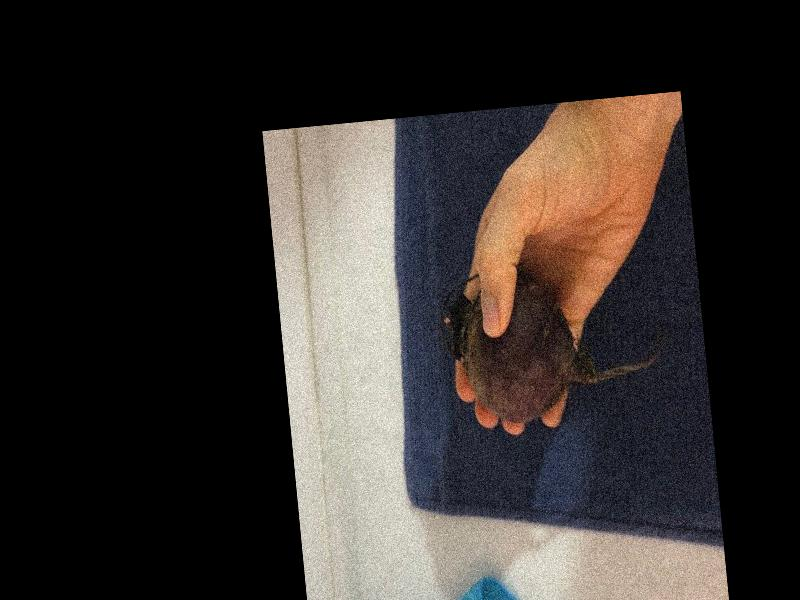Beet: (437, 256, 666, 428)
